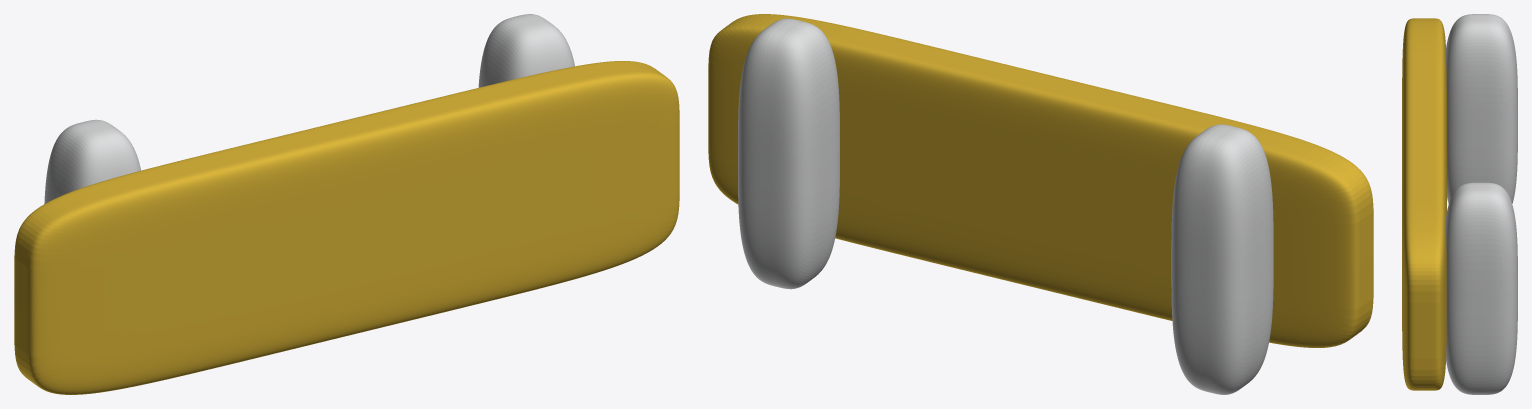
File: wooden_skateboard_sq.glb
3 renders of one model, left to right at view 1: azimuth 30°, elevation 25°; view 2: azimuth 150°, elevation 25°; view 3: azimuth 270°, elevation 25°, orthographic. The views are drawn at different scales.
Visible parts, largest first — view 1: superquadric_0, superquadric_1, superquadric_2; view 2: superquadric_0, superquadric_1, superquadric_2; view 3: superquadric_0, superquadric_2, superquadric_1.
Boxes of the visible parts, <box> form: superquadric_0: <box>14,61,679,394</box>; superquadric_1: <box>44,119,140,203</box>; superquadric_2: <box>478,14,574,87</box>; superquadric_0: <box>708,14,1373,347</box>; superquadric_1: <box>1171,124,1273,394</box>; superquadric_2: <box>738,18,839,289</box>; superquadric_0: <box>1402,18,1446,390</box>; superquadric_2: <box>1445,182,1517,394</box>; superquadric_1: <box>1445,14,1517,203</box>.
Bounding box in the file's own units: 1 × 0.375 × 0.1938.
